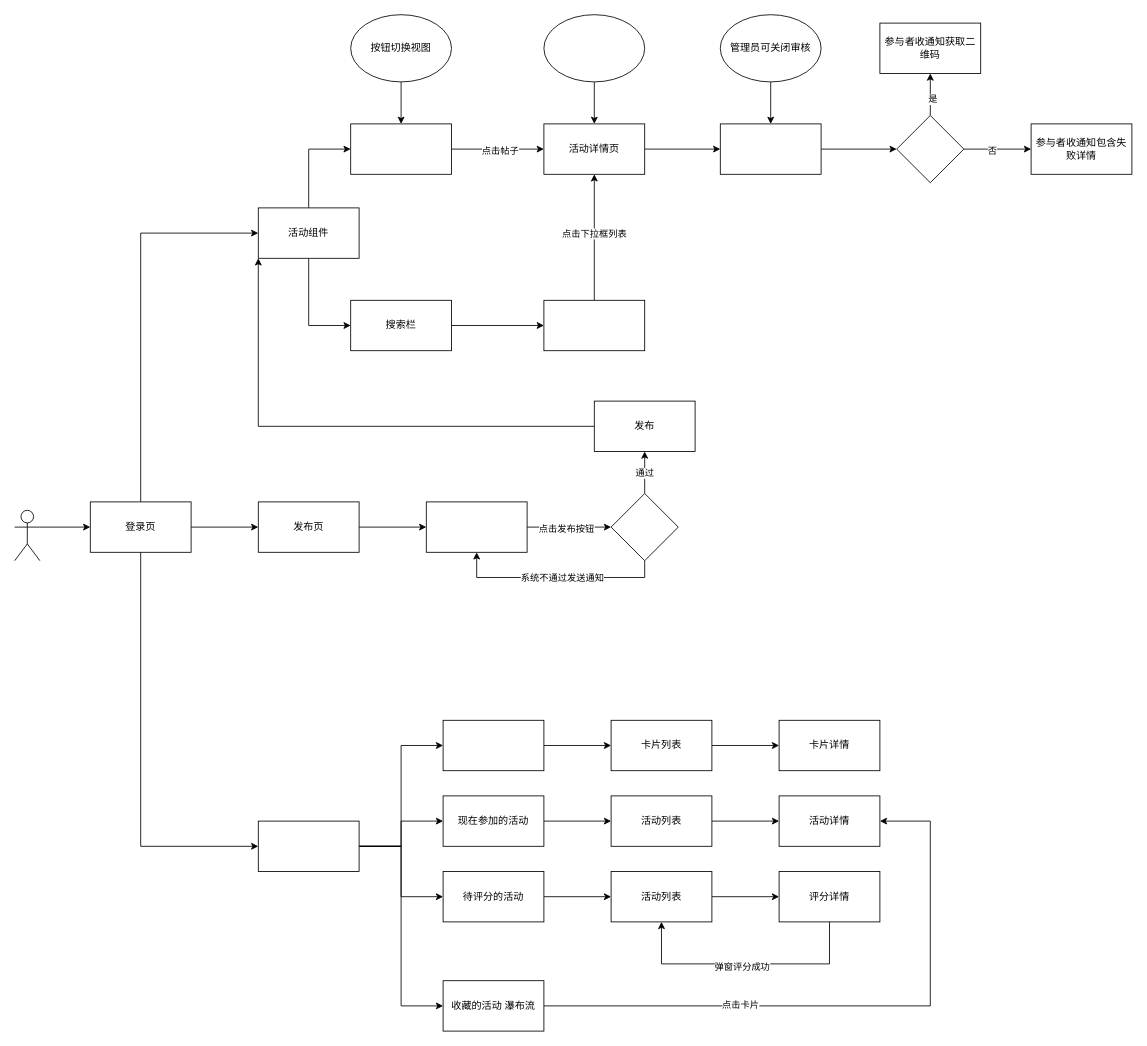
The diagram is 1147 pixels wide and 1046 high, and some of its shapes have lost their labels. The shapes that lost their labels are listed below. From the top down, each one's centre as x and y in pixels, then its label:
pixel 594 48: 点赞评论分享
pixel 401 148: 帖子/列表
pixel 770 148: 报名
pixel 930 149: 审核通过？
pixel 594 325: 下拉框
pixel 27 535: 用户
pixel 476 526: 填写活动信息
pixel 644 527: 系统审核
pixel 493 745: 通知
pixel 308 846: 主页组件
